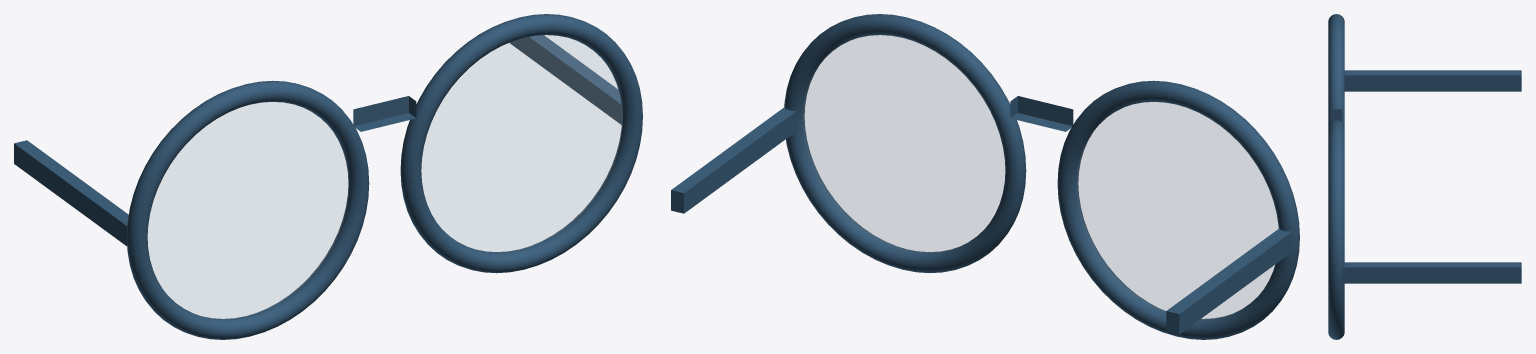
The model's file is frame-demo.glb.
3 renders of one model, left to right at view 1: azimuth 30°, elevation 25°; view 2: azimuth 150°, elevation 25°; view 3: azimuth 270°, elevation 25°, orthographic. The views are drawn at different scales.
Parts seen in each view (by area): view 1: LumenDemoFrame; view 2: LumenDemoFrame; view 3: LumenDemoFrame.
Boxes of the visible parts, x1,y1,x2,y2 form: LumenDemoFrame: (14, 14, 642, 339); LumenDemoFrame: (671, 14, 1299, 339); LumenDemoFrame: (1328, 14, 1521, 339).
Size of the model in its own units: 1.58 by 0.736 by 0.6476.
